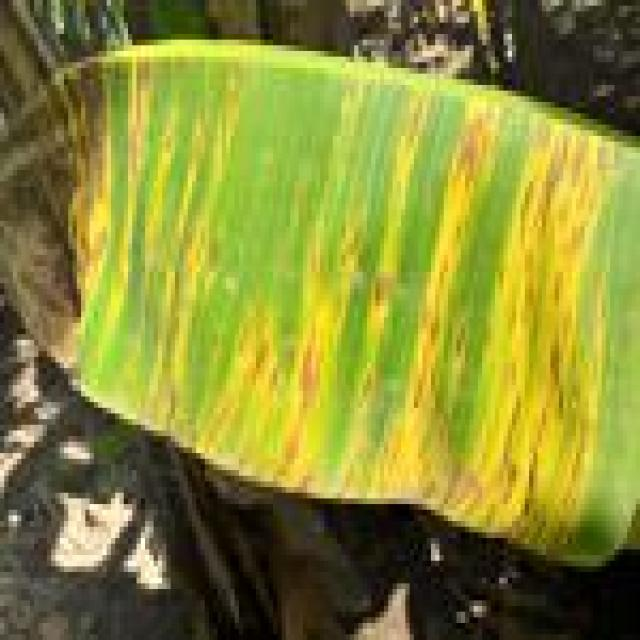Early_rust: (48, 41, 640, 561)
